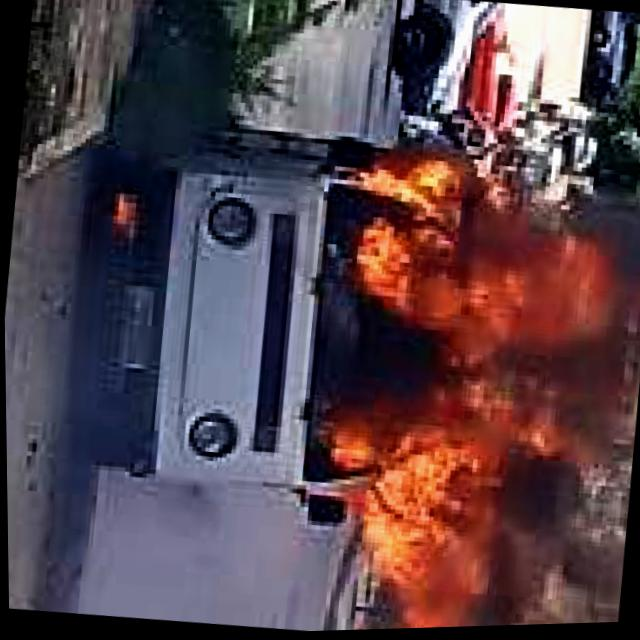smoke: (410, 454, 631, 631), (567, 152, 640, 385)
